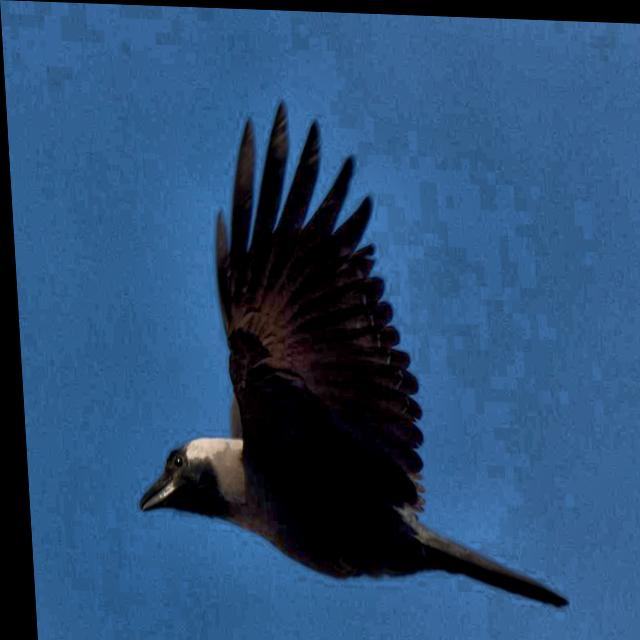crow: (112, 86, 566, 618)
